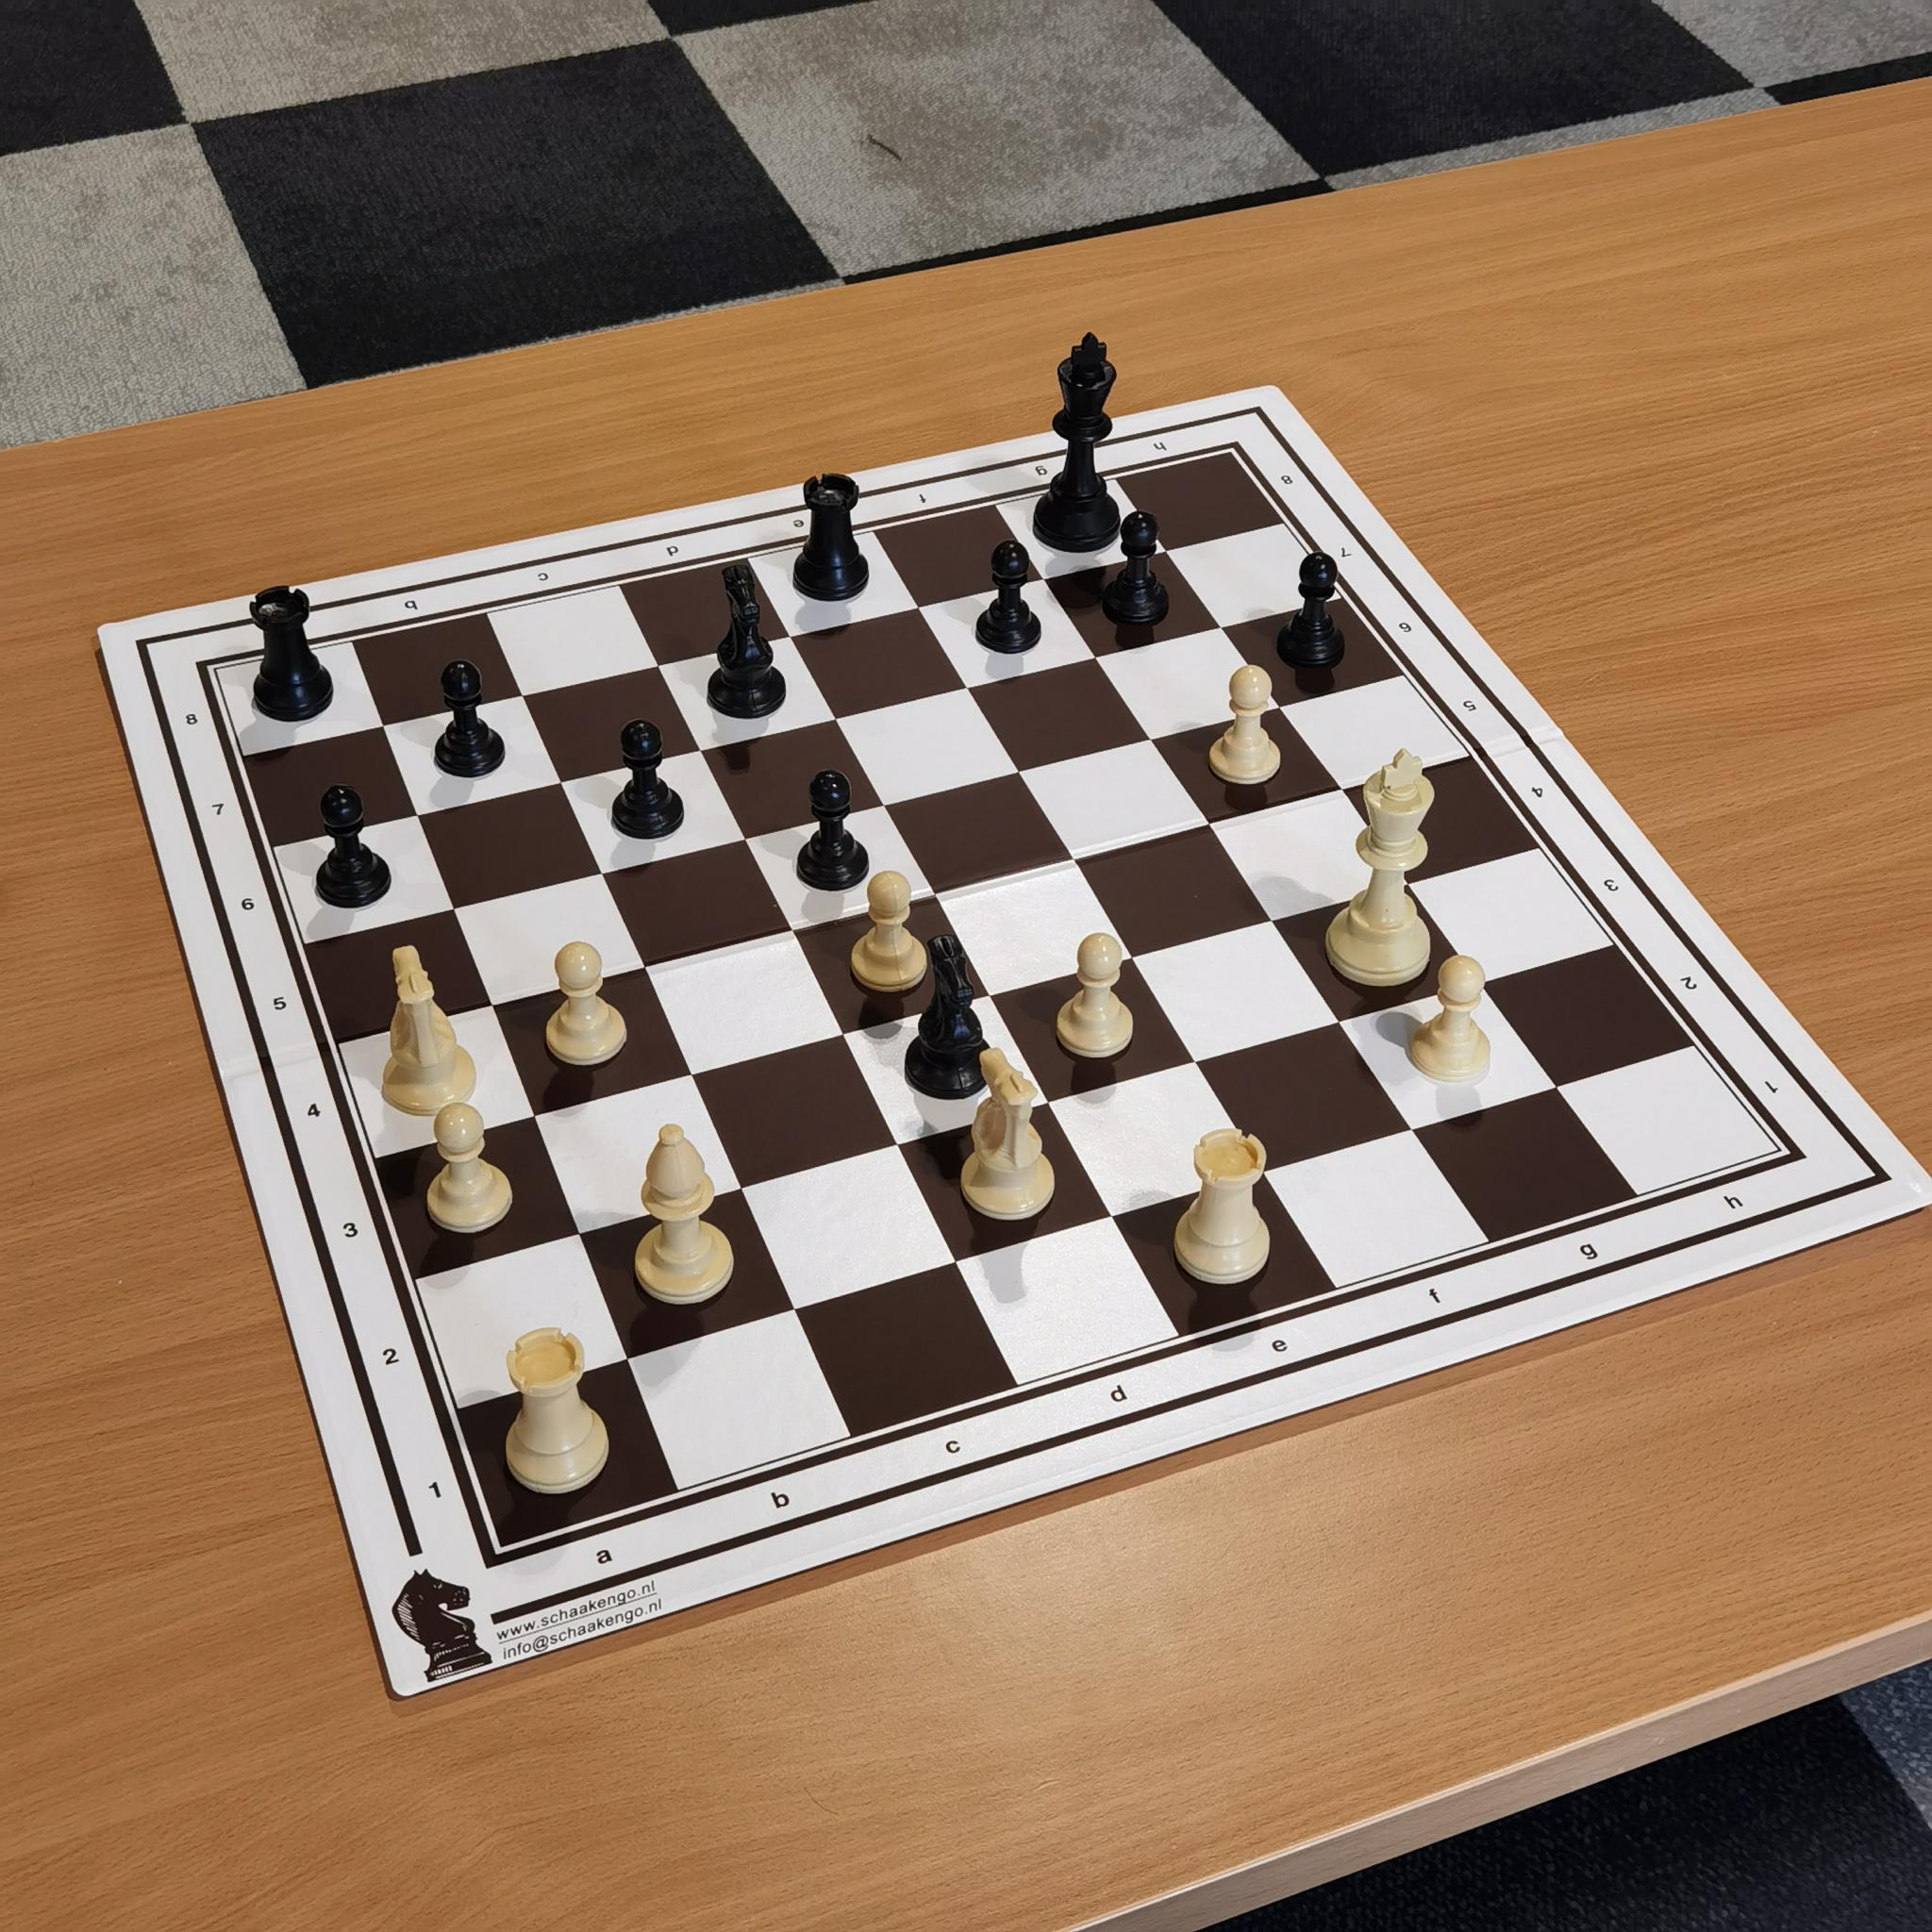corners: (465, 1529, 523, 1596), (1765, 1132, 1831, 1184), (184, 652, 244, 696), (1212, 435, 1265, 479)
eight: (181, 696, 215, 749), (1271, 459, 1306, 499)
one: (410, 1454, 468, 1527), (1754, 1064, 1800, 1111)
